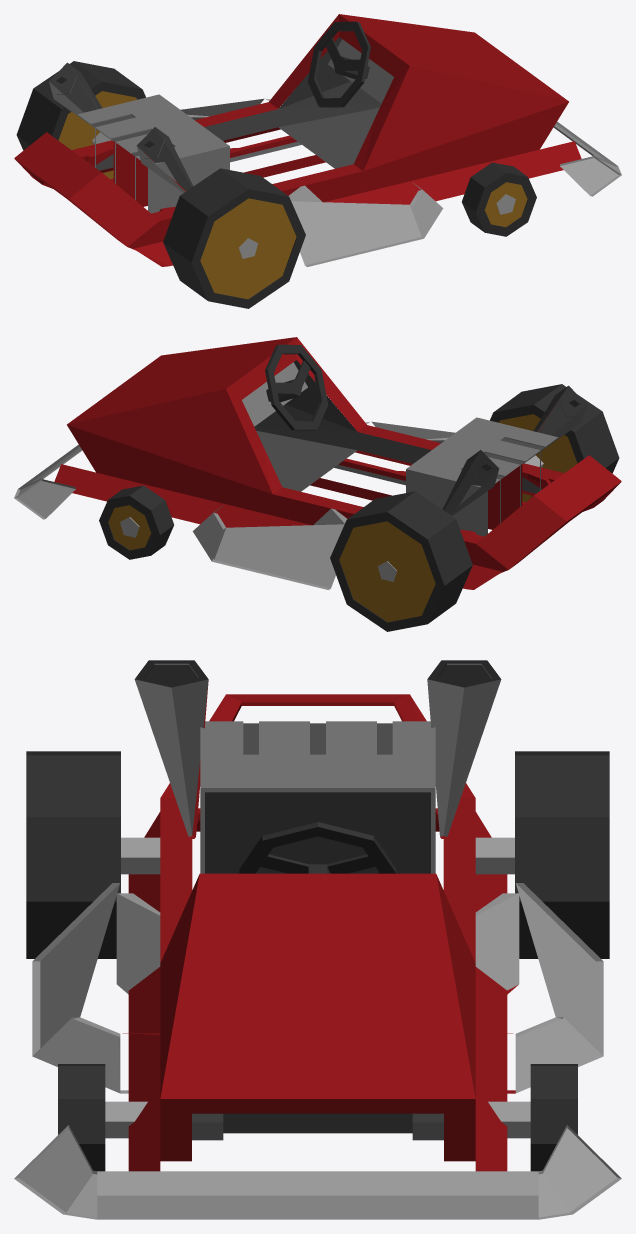
The model's file is Kart-3.glb.
The picture shows the model from 3 angles, top to bottom: view 1: azimuth 30°, elevation 25°; view 2: azimuth 150°, elevation 25°; view 3: azimuth 270°, elevation 25°; orthographic projection. The views are drawn at different scales.
Parts seen in each view (by area): view 1: body, wheel-br, wheel-bl, wheel-fr, steer; view 2: body, wheel-bl, wheel-br, wheel-fl, steer; view 3: body, wheel-br, wheel-bl, wheel-fl, wheel-fr, steer.
Part boxes in pixels (<box>): body: <box>14,14,621,266</box>; wheel-br: <box>163,168,305,308</box>; wheel-bl: <box>16,61,145,179</box>; wheel-fr: <box>462,162,536,236</box>; steer: <box>307,21,370,107</box>; body: <box>14,337,621,589</box>; wheel-bl: <box>330,491,472,631</box>; wheel-br: <box>490,384,619,502</box>; wheel-fl: <box>99,485,173,559</box>; steer: <box>265,344,328,430</box>; body: <box>14,660,621,1219</box>; wheel-br: <box>26,751,160,958</box>; wheel-bl: <box>475,751,609,958</box>; wheel-fl: <box>488,1064,577,1171</box>; wheel-fr: <box>58,1064,147,1171</box>; steer: <box>239,822,396,873</box>.
Bounding box in the file's own units: 4.5 × 1.48 × 2.78.
